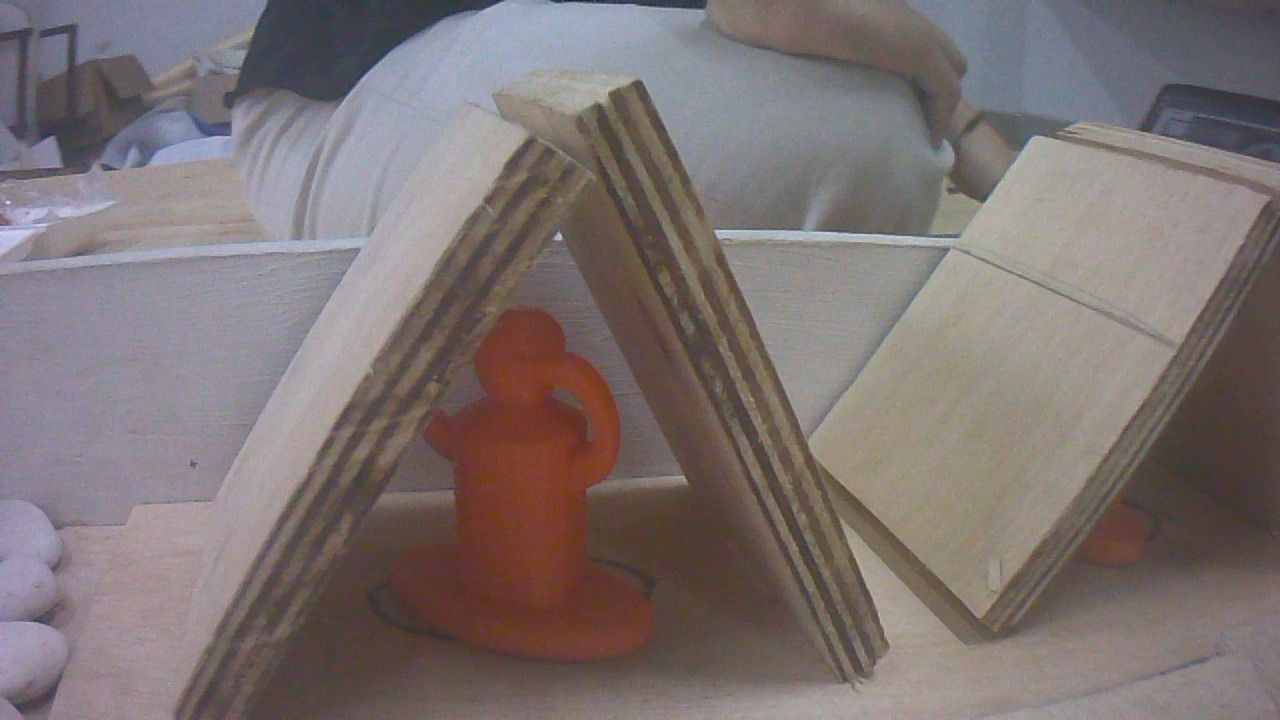real: (398, 291, 632, 654)
